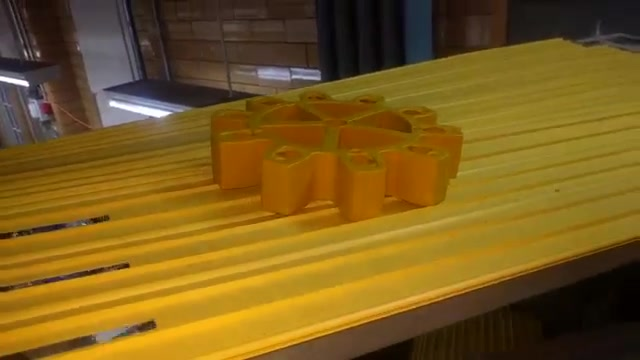gear: (194, 74, 468, 231)
